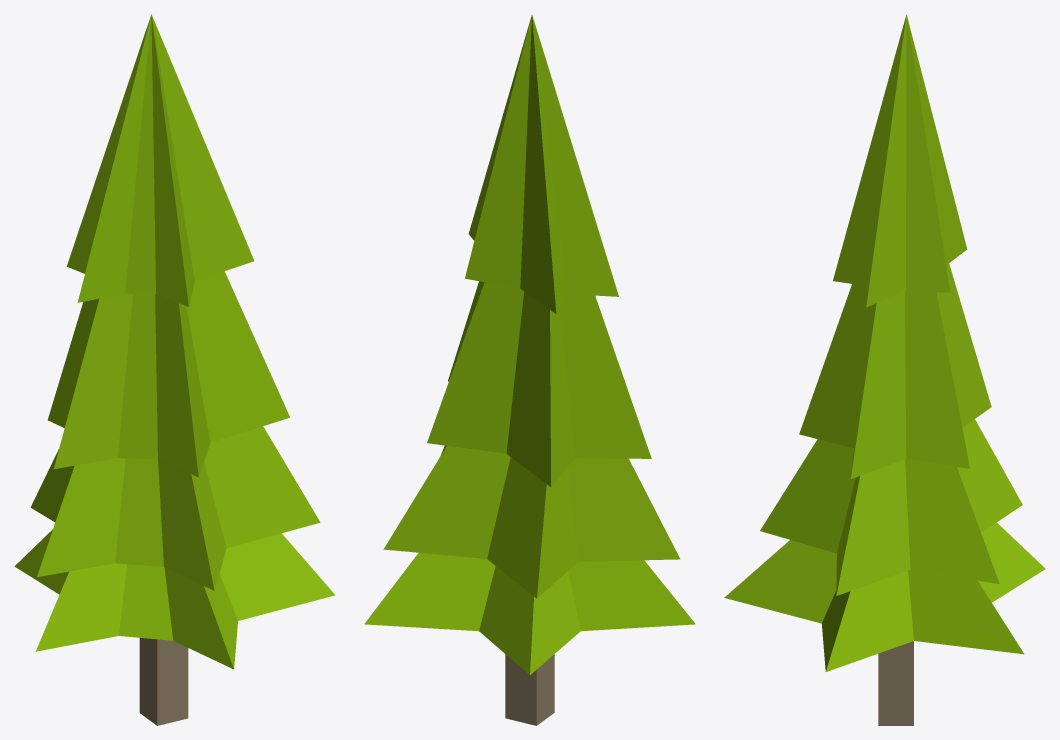
File: tree_pine_star_skewed_1.fbx
3 views of the same model, side by side, from view 1: azimuth 30°, elevation 25°; view 2: azimuth 150°, elevation 25°; view 3: azimuth 270°, elevation 25° (orthographic).
Visible parts, largest first — view 1: tree_pine_star_skewed_1; view 2: tree_pine_star_skewed_1; view 3: tree_pine_star_skewed_1.
Boxes of the visible parts, x1=… form: tree_pine_star_skewed_1: x1=14, y1=14, x2=334, y2=725; tree_pine_star_skewed_1: x1=364, y1=15, x2=695, y2=725; tree_pine_star_skewed_1: x1=724, y1=14, x2=1045, y2=725.
Size of the model in its own units: 113 by 266 by 111.
